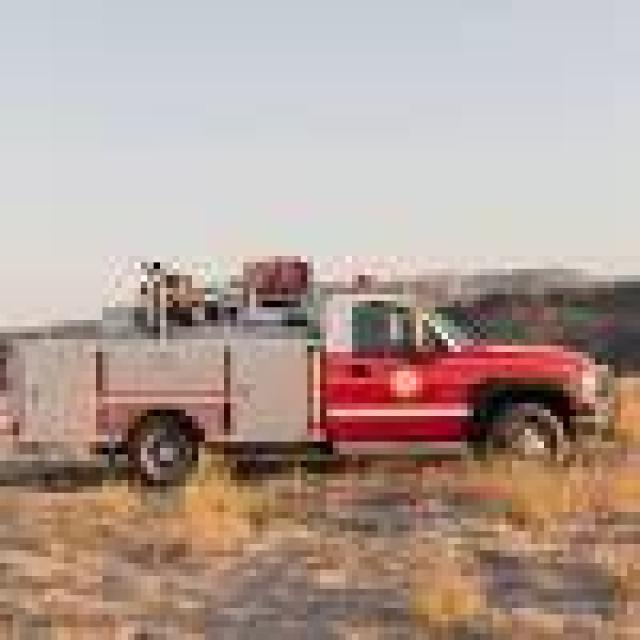Fire_brigade: (0, 192, 640, 506)
